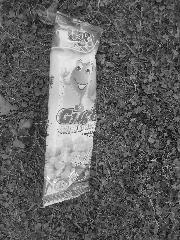general: (42, 11, 102, 207)
